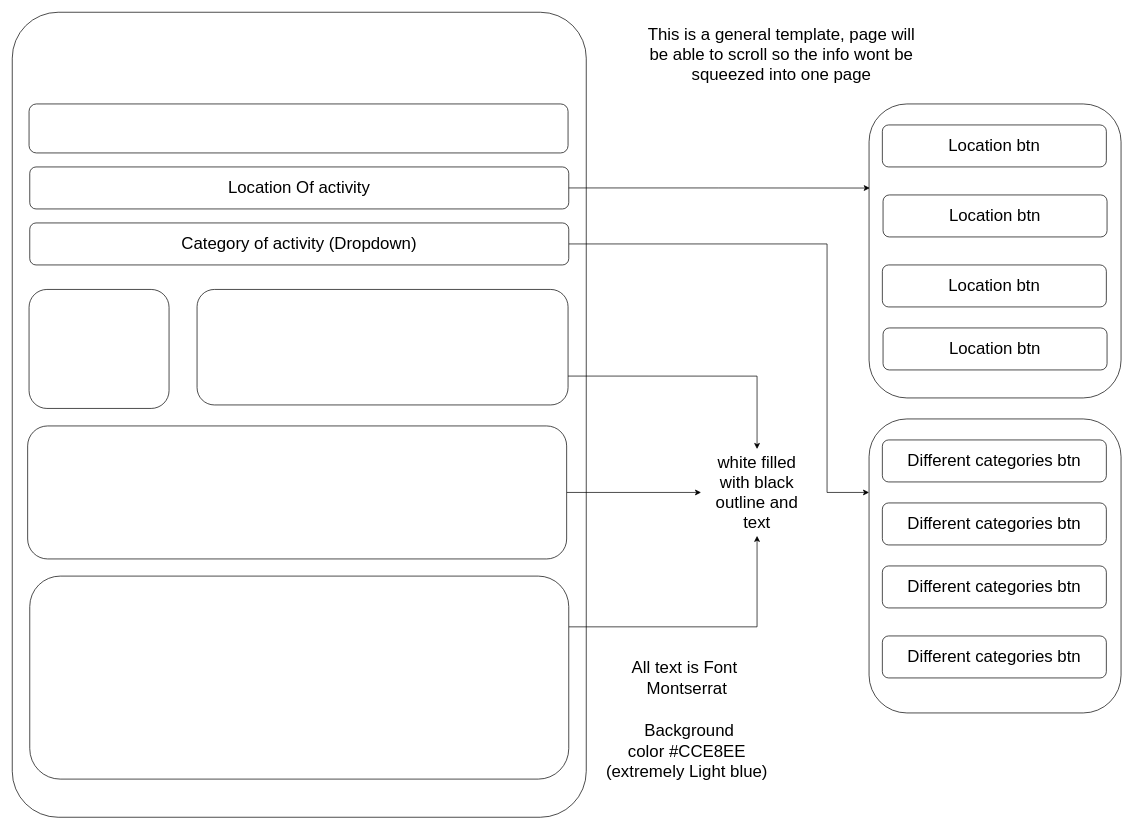
The diagram is 1133 pixels wide and 830 high, and some of its shapes have lost their labels. Here are the shapes that lost their labels. From the top down, the centre of each, then its label:
At point (298, 128): "Name Of Activity".
At point (98, 348): "Image upload for activity".
At point (382, 347): "Dates activity is running".
At point (297, 492): "Pricing for activity".
At point (299, 677): "Description of activity".
